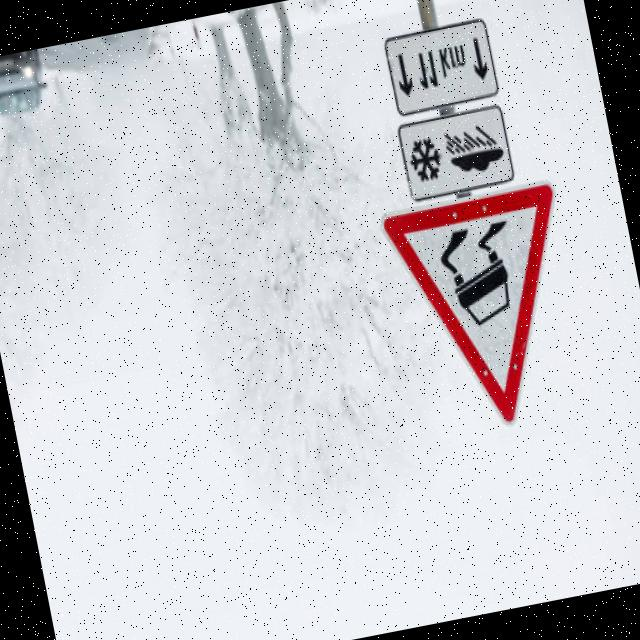road_slippery: (379, 174, 602, 452)
